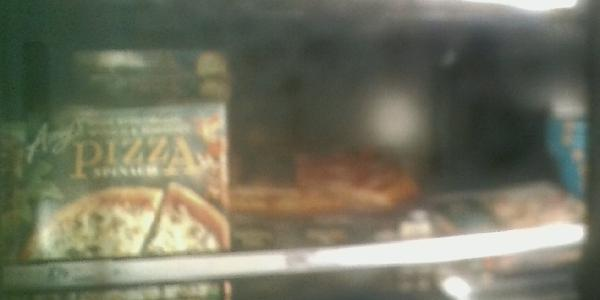pizza1: (13, 102, 231, 296)
pizza2: (72, 49, 228, 80)
